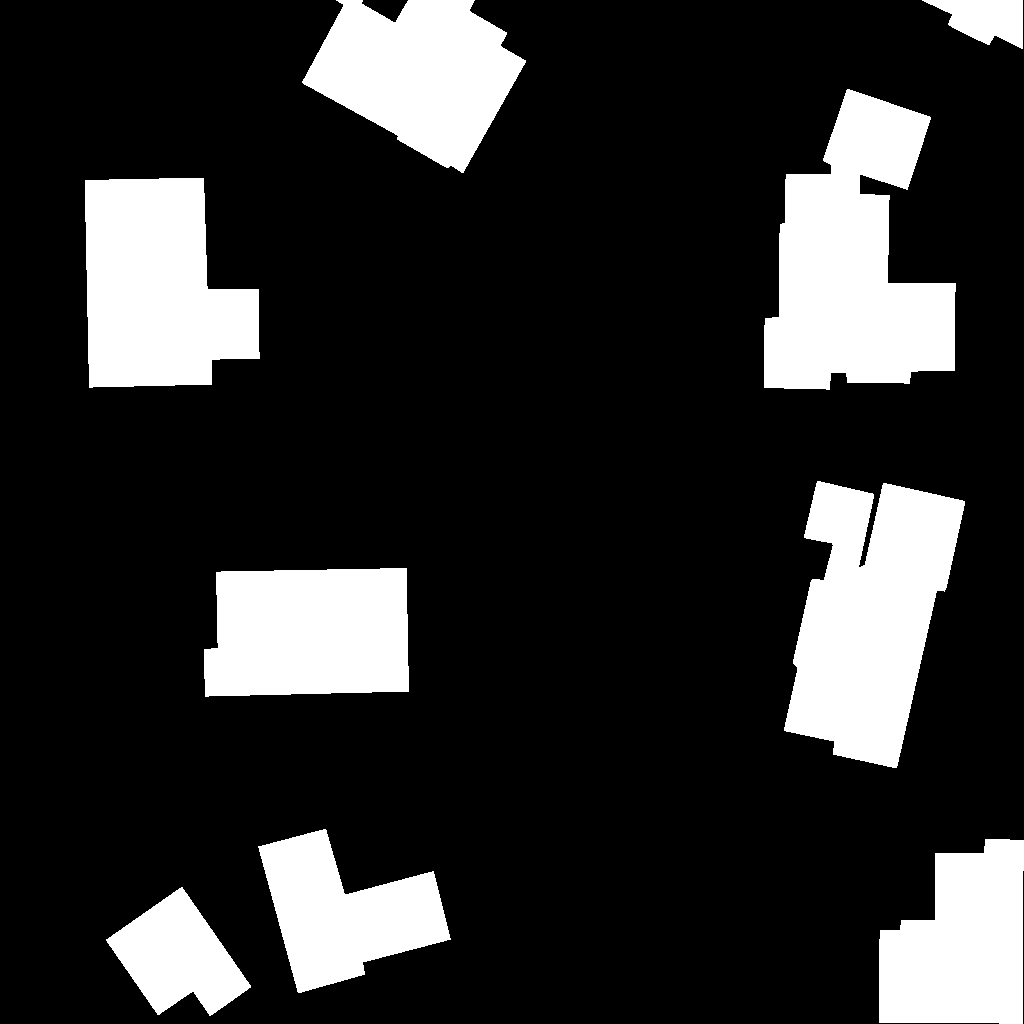building: (764, 89, 956, 390), (784, 481, 966, 769), (302, 0, 527, 174), (85, 178, 260, 388), (258, 829, 452, 994), (879, 839, 1024, 1024), (204, 568, 410, 697), (106, 887, 252, 1017), (921, 0, 1024, 50)
